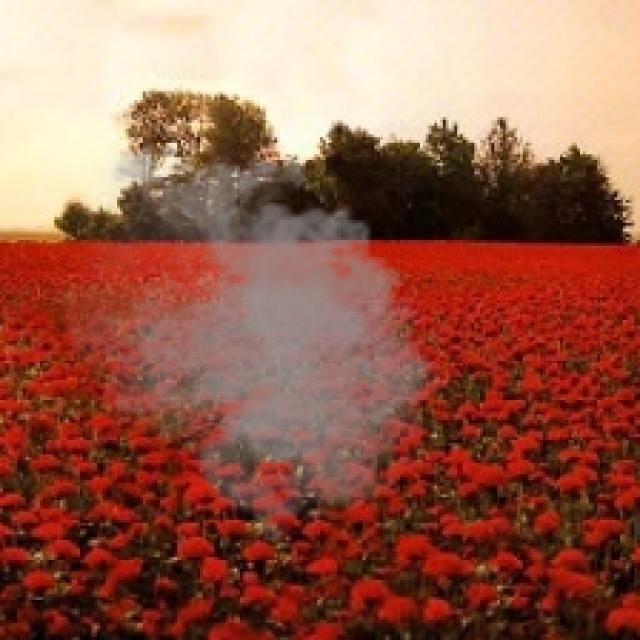Smoke: (42, 131, 458, 546)
